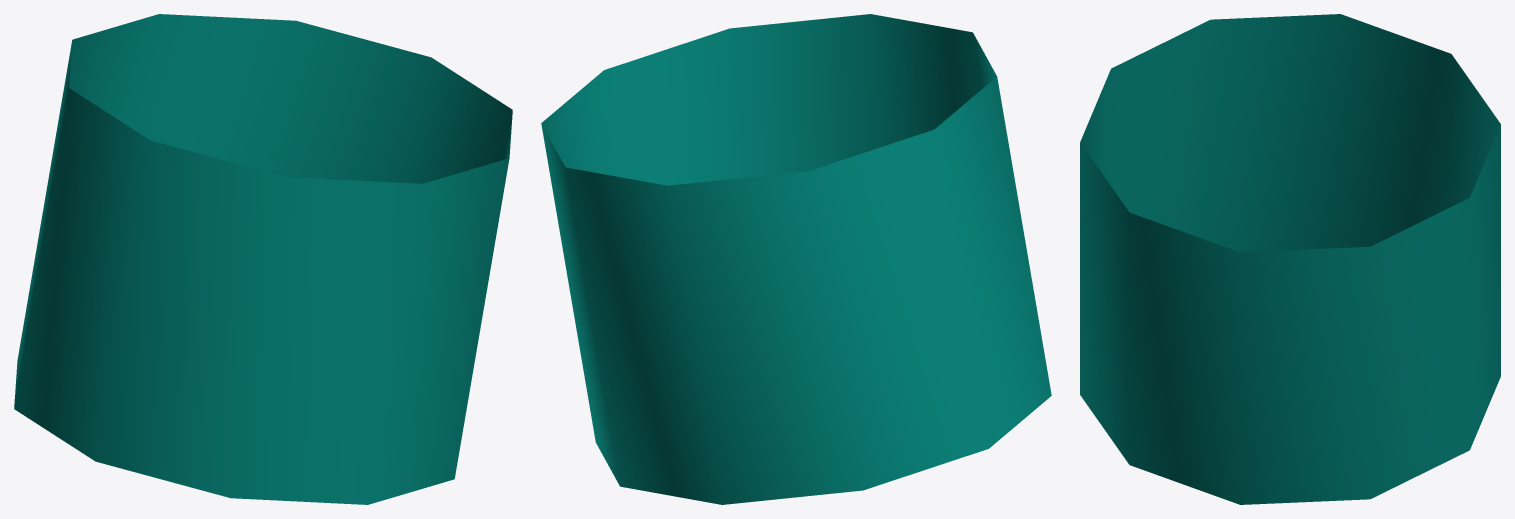
3 views of the same model, side by side, from view 1: azimuth 30°, elevation 25°; view 2: azimuth 150°, elevation 25°; view 3: azimuth 270°, elevation 25° (orthographic). The views are drawn at different scales.
Parts seen in each view (by area): view 1: TubeRenderer(Clone); view 2: TubeRenderer(Clone); view 3: TubeRenderer(Clone).
Boxes of the visible parts, <box> form: TubeRenderer(Clone): <box>14,14,512,504</box>; TubeRenderer(Clone): <box>541,14,1051,504</box>; TubeRenderer(Clone): <box>1080,14,1500,504</box>.
Bounding box in the file's own units: 0.1453 × 0.1202 × 0.133.
